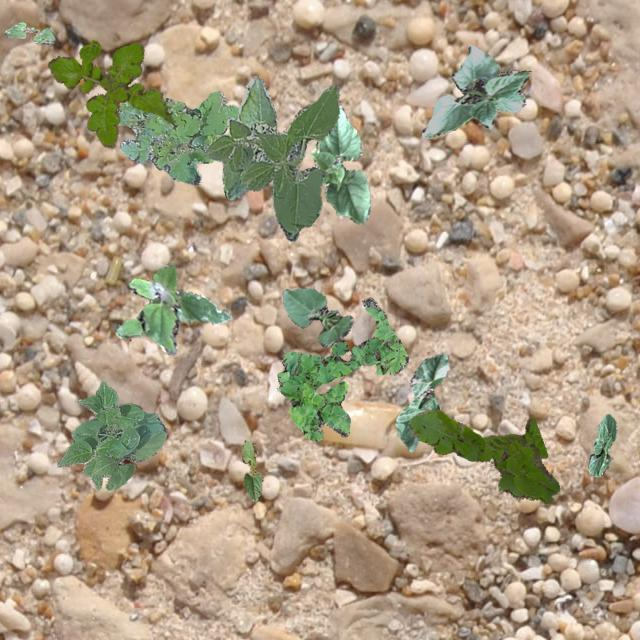crop: (204, 76, 338, 240), (56, 380, 166, 490), (420, 44, 528, 138), (310, 104, 370, 223), (394, 352, 448, 451), (282, 286, 352, 346), (588, 412, 616, 476), (240, 438, 262, 501), (4, 20, 54, 42)
weed: (276, 296, 408, 441), (408, 408, 558, 502), (46, 40, 172, 146), (115, 90, 238, 184), (114, 264, 230, 354)
